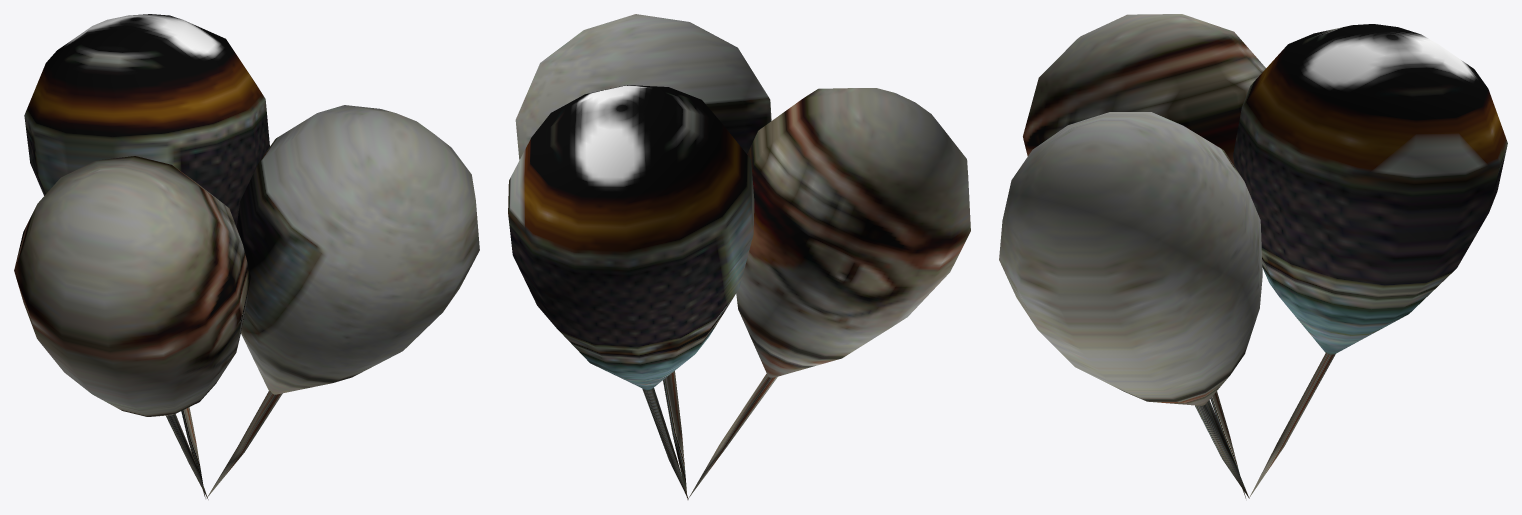
Rendered from listicon.ico.obj.
3 renders of one model, left to right at view 1: azimuth 30°, elevation 25°; view 2: azimuth 150°, elevation 25°; view 3: azimuth 270°, elevation 25°, orthographic. The views are drawn at different scales.
Bounding box in the file's own units: 4.23 × 4.15 × 4.14.
